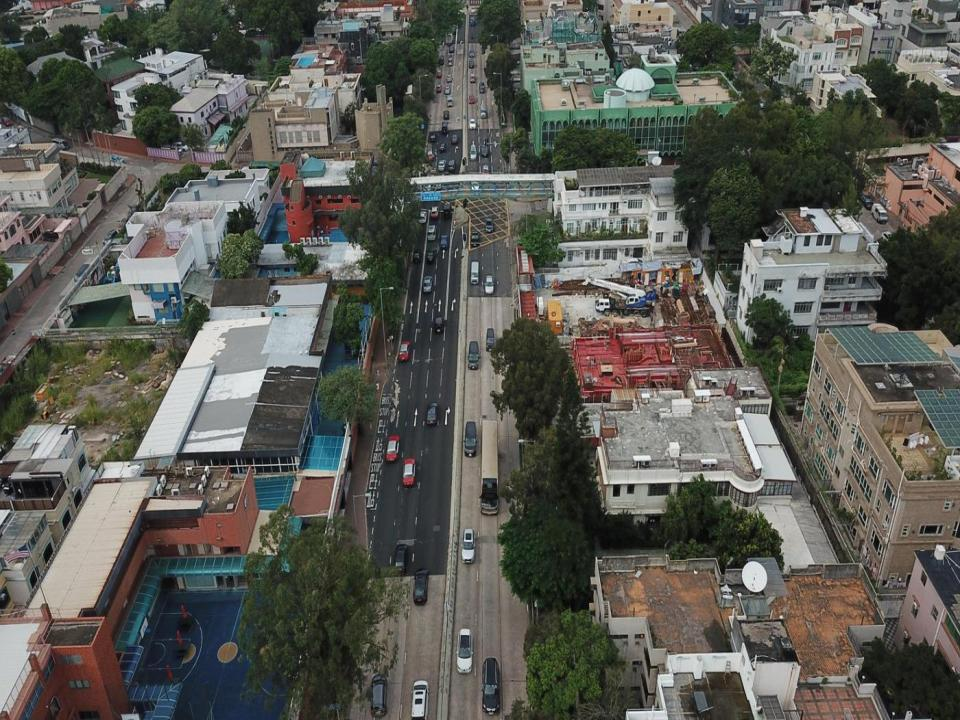bus: (480, 420, 499, 516)
car: (370, 674, 388, 716), (457, 629, 473, 674), (461, 528, 476, 564), (414, 568, 428, 606), (394, 544, 408, 574), (402, 459, 416, 486), (386, 435, 398, 461), (426, 401, 437, 425), (398, 340, 410, 361), (484, 274, 495, 293), (433, 315, 444, 334), (110, 154, 125, 166), (118, 217, 131, 230), (423, 275, 432, 292), (470, 173, 478, 192), (0, 114, 11, 127), (128, 204, 138, 217), (470, 230, 478, 246), (485, 217, 493, 232), (413, 249, 421, 263), (440, 235, 448, 248), (426, 250, 434, 263), (431, 206, 439, 219), (419, 210, 426, 223), (438, 159, 445, 171), (482, 164, 488, 178), (452, 134, 458, 146), (482, 144, 488, 156), (469, 118, 475, 129), (469, 93, 475, 104), (436, 82, 442, 93), (468, 57, 474, 68), (428, 149, 434, 160), (439, 142, 445, 152), (470, 73, 476, 83), (469, 48, 475, 58), (437, 68, 442, 78), (439, 56, 444, 66), (446, 74, 452, 82), (444, 85, 450, 93), (470, 6, 476, 14), (449, 44, 454, 53), (430, 132, 435, 140), (448, 57, 452, 65)
van: (482, 657, 500, 714), (411, 681, 429, 719), (463, 421, 477, 457), (467, 341, 480, 370), (74, 263, 92, 282), (162, 146, 182, 157), (52, 137, 67, 150), (172, 140, 189, 151), (470, 261, 478, 284), (103, 229, 116, 243), (487, 328, 494, 351), (427, 224, 436, 240), (470, 143, 477, 160), (448, 159, 456, 172), (478, 81, 486, 94), (441, 122, 448, 134), (446, 94, 452, 108), (444, 204, 450, 217), (481, 105, 486, 119), (443, 110, 449, 121), (469, 16, 474, 24)
